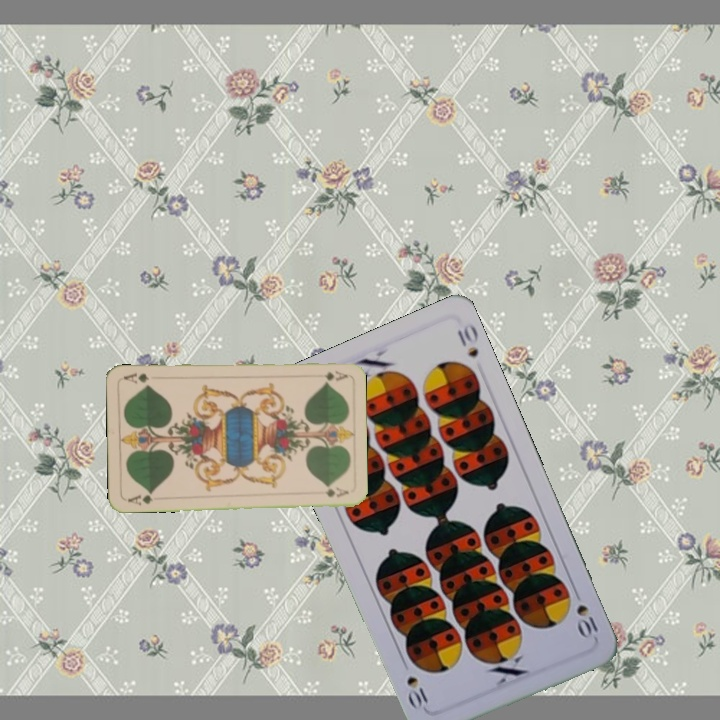GA: (309, 367, 350, 384), (124, 488, 155, 508)
S10: (569, 585, 601, 642)
